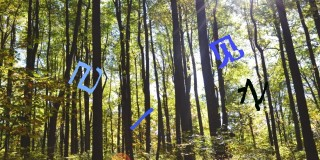一: (130, 109, 154, 130)
之: (236, 80, 268, 110)
己: (68, 62, 102, 93)
见: (208, 34, 245, 70)
